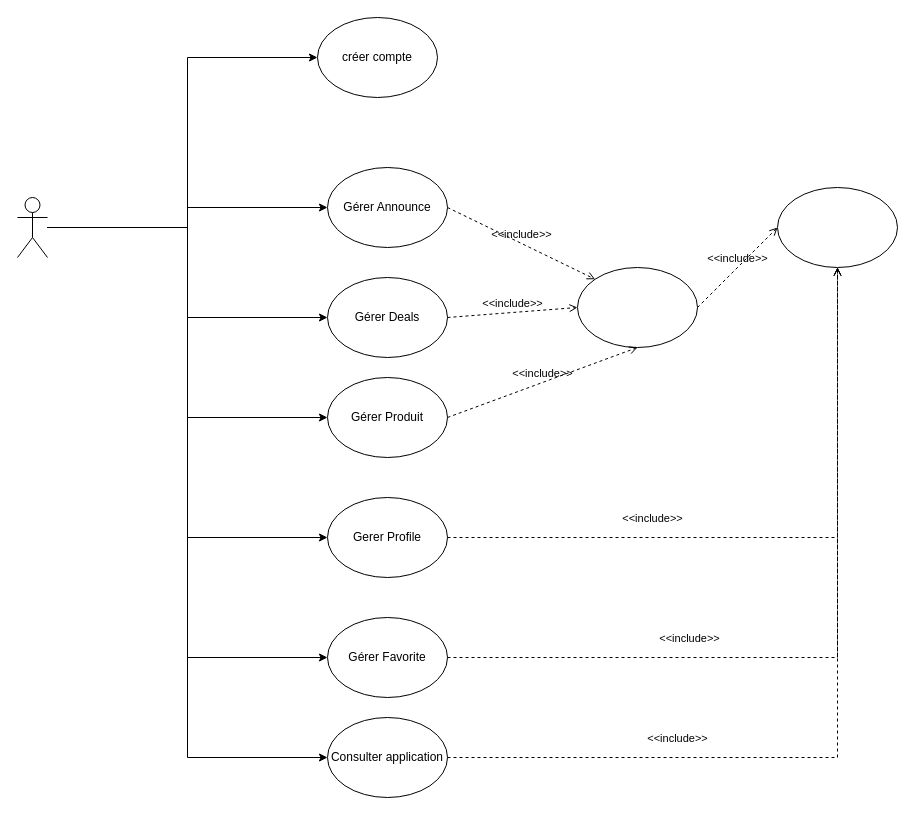
Some shapes in this 915 by 815 pixel diagram are drawn without their labels. The shapes that lost their labels are listed below. From the top down, each one's box as (x1, y1, x2, y2) in pixels, then its label:
(16, 196, 48, 258): Actor
(776, 186, 898, 268): Authentification
(576, 266, 698, 348): Diamond
